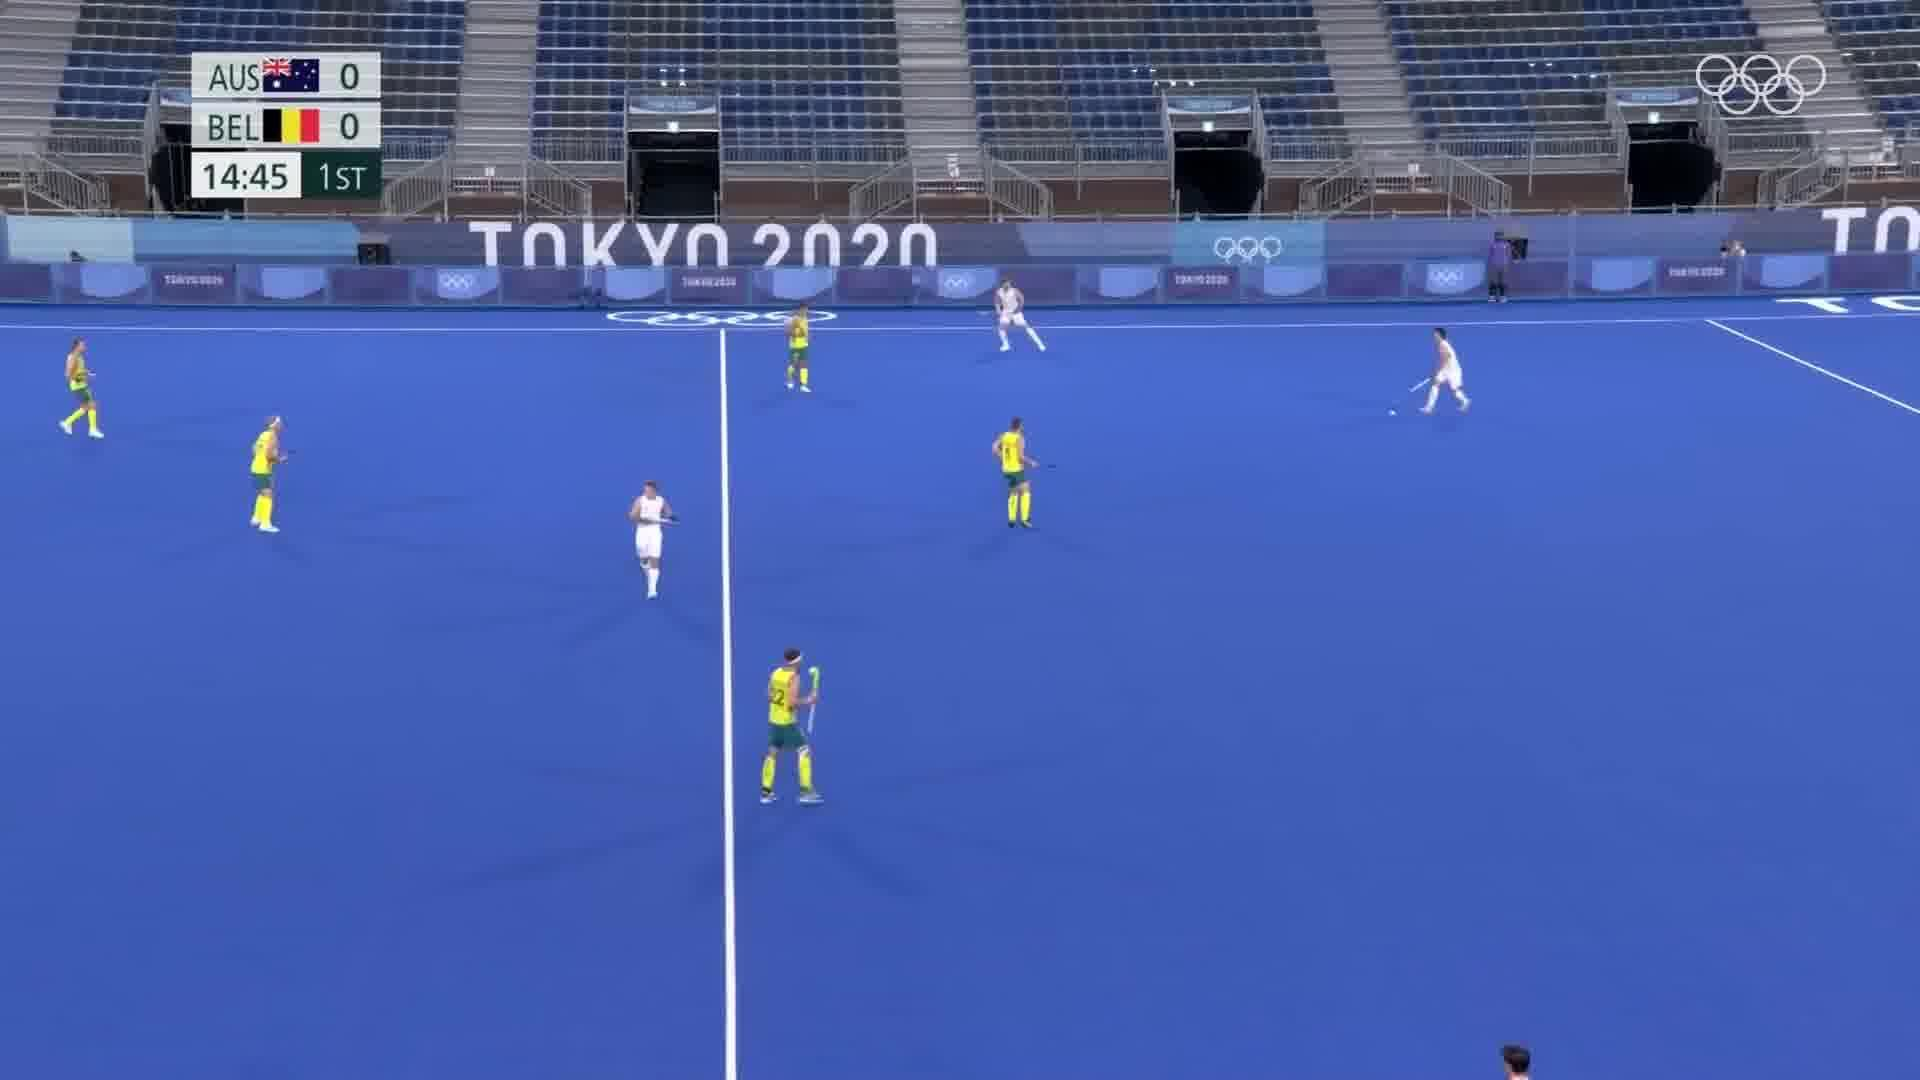ball: (1377, 401, 1410, 429)
